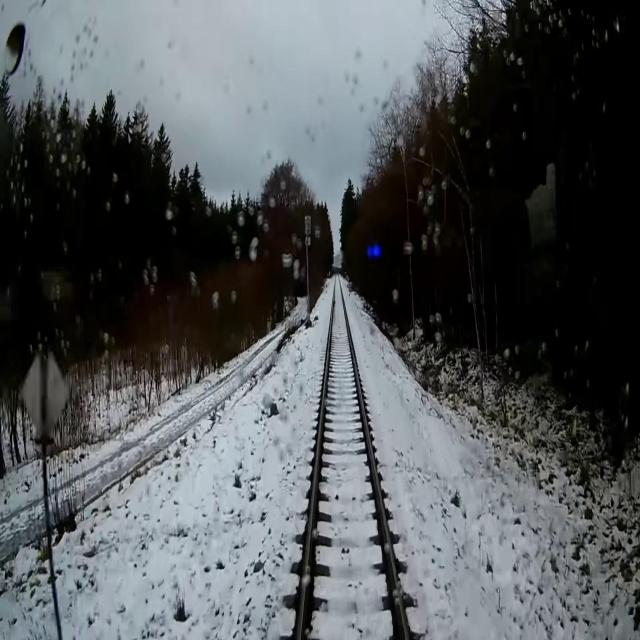rail-track: (301, 274, 405, 639)
